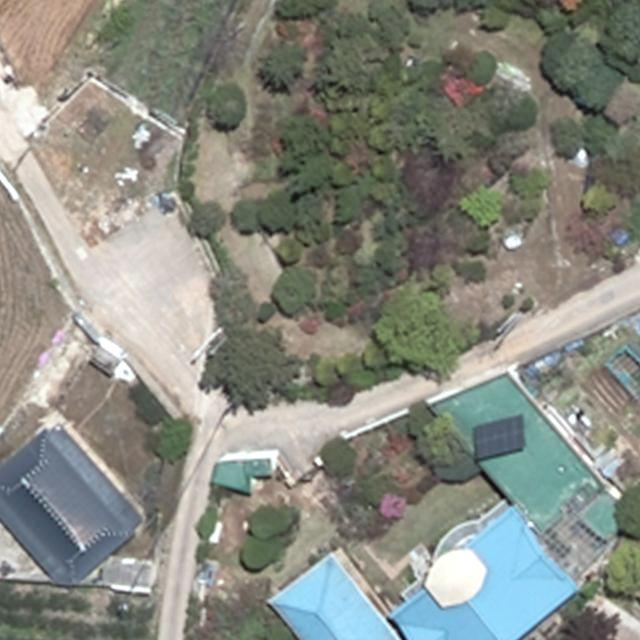solar: (471, 412, 530, 466)
